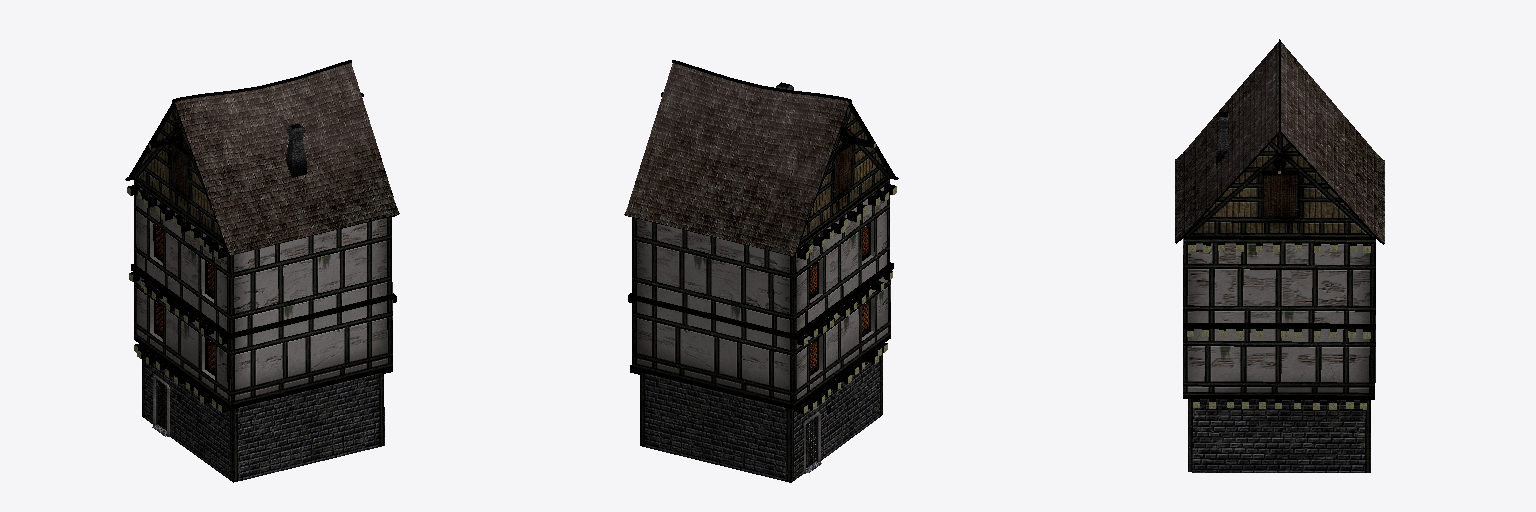
The picture shows the model from 3 angles: view 1: azimuth 30°, elevation 25°; view 2: azimuth 150°, elevation 25°; view 3: azimuth 270°, elevation 25°; orthographic projection.
Visible parts, largest first — view 1: housemedieval_House; view 2: housemedieval_House; view 3: housemedieval_House.
Boxes of the visible parts, box(x1,y1,x2,y2) form: housemedieval_House: box(125, 60, 399, 482); housemedieval_House: box(624, 60, 898, 482); housemedieval_House: box(1175, 39, 1384, 472).
Size of the model in its own units: 27.71 by 44 by 23.59.
Materials: 1 (1 with a texture image).